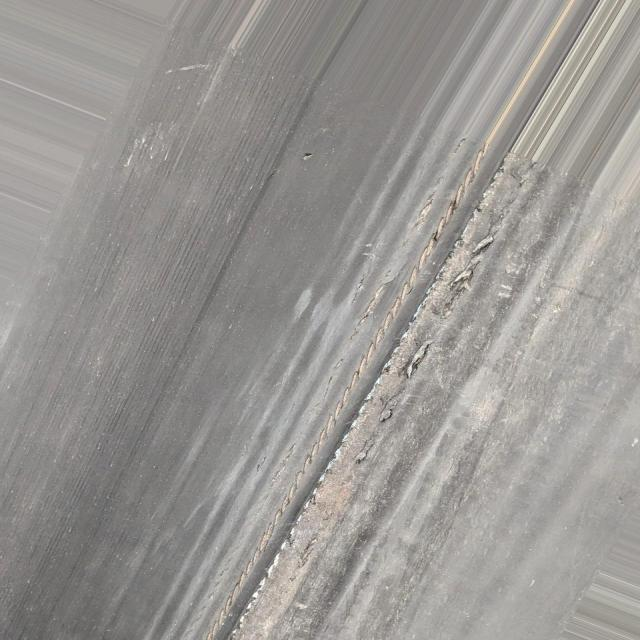Wear: (162, 139, 591, 640)
